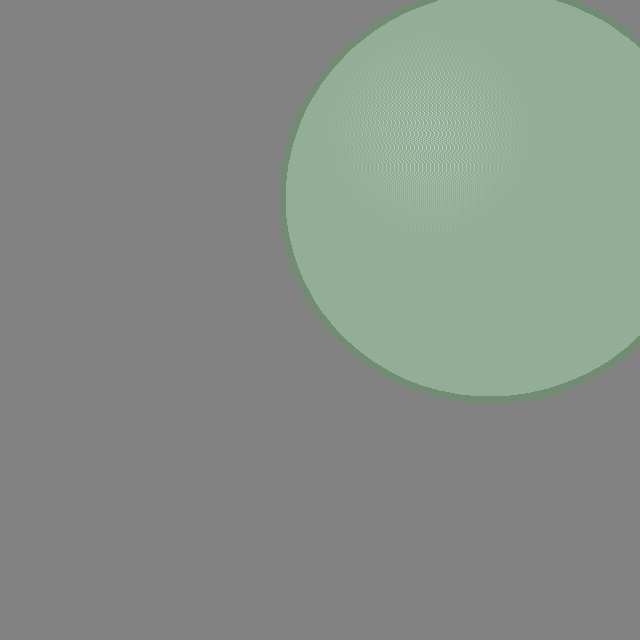lens: (282, 0, 640, 399)
